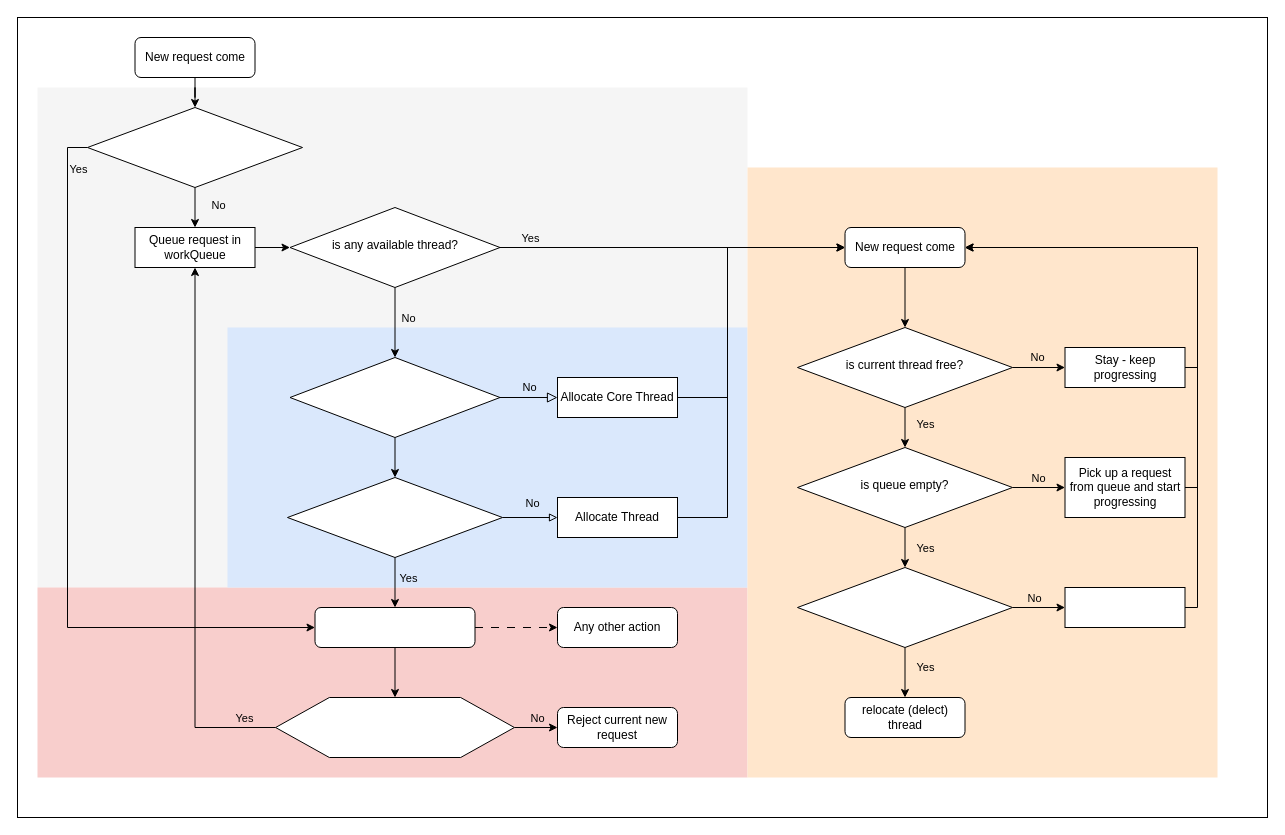
The diagram is 1285 pixels wide and 835 high, and some of its shapes have lost their labels. Each missing label, with the box of its shape:
Call `RejectedExecutionHandler`: (314, 606, 475, 648)
is `RejectedExecutionHandler` resulting to keep the current new reuqest?: (275, 696, 514, 758)
is current thread reache the `keepAliceTime`?: (796, 566, 1012, 648)
is the max `corePoolSize` reached?: (289, 356, 500, 438)
is the max `maximumPoolSize` reached?: (286, 476, 502, 558)
is the max `workQueue` reached?: (86, 106, 302, 188)
Stay: (1064, 586, 1185, 628)
